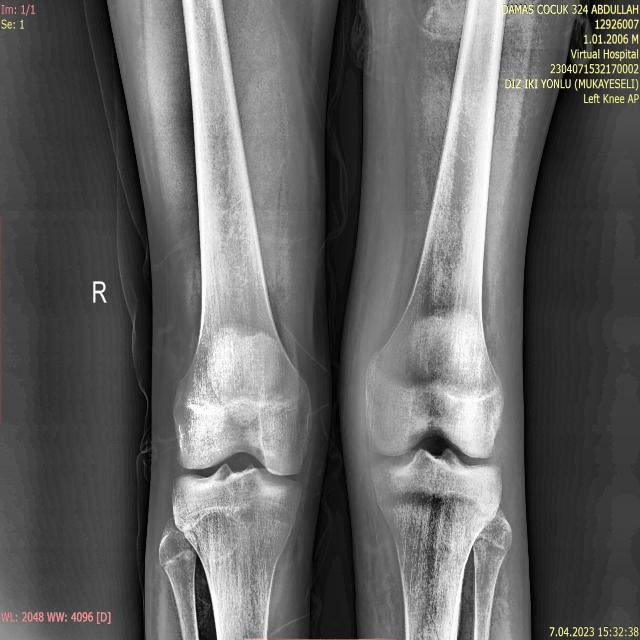Fracture: (100, 7, 576, 621)
